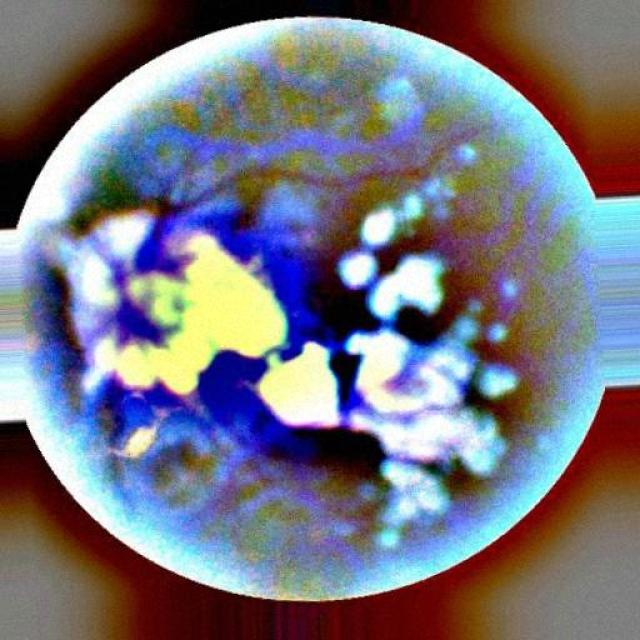Optic Disk: (64, 202, 341, 458)
